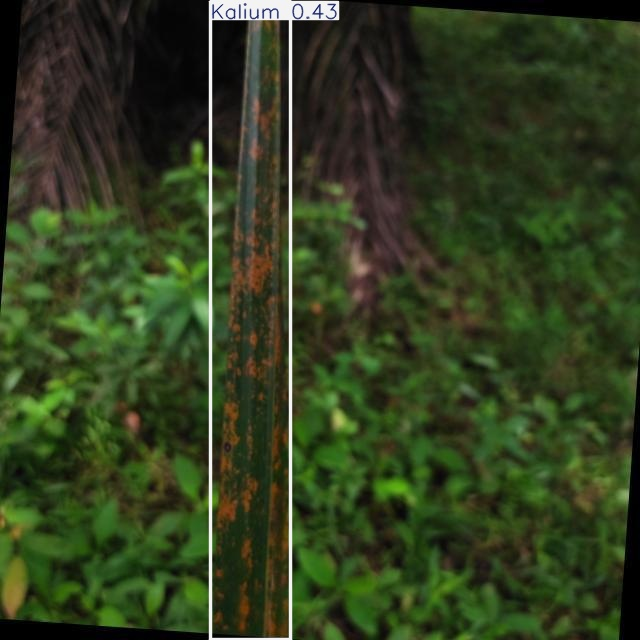Kalium: (211, 2, 291, 639)
